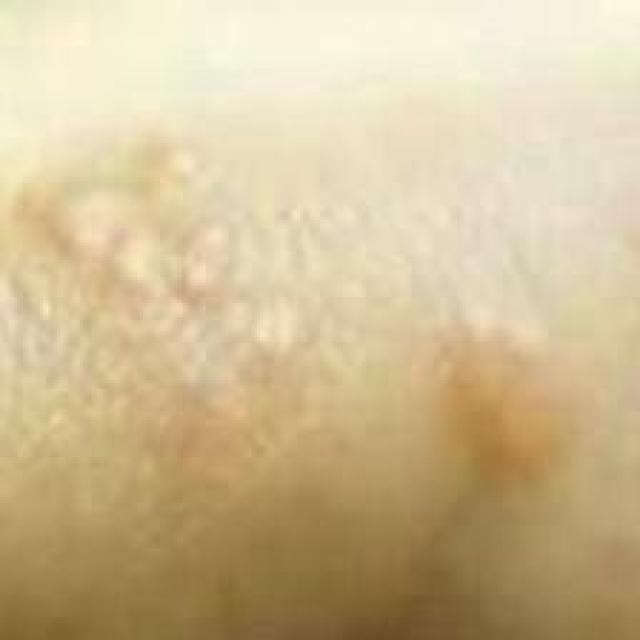monkeypox: (44, 108, 599, 634)
